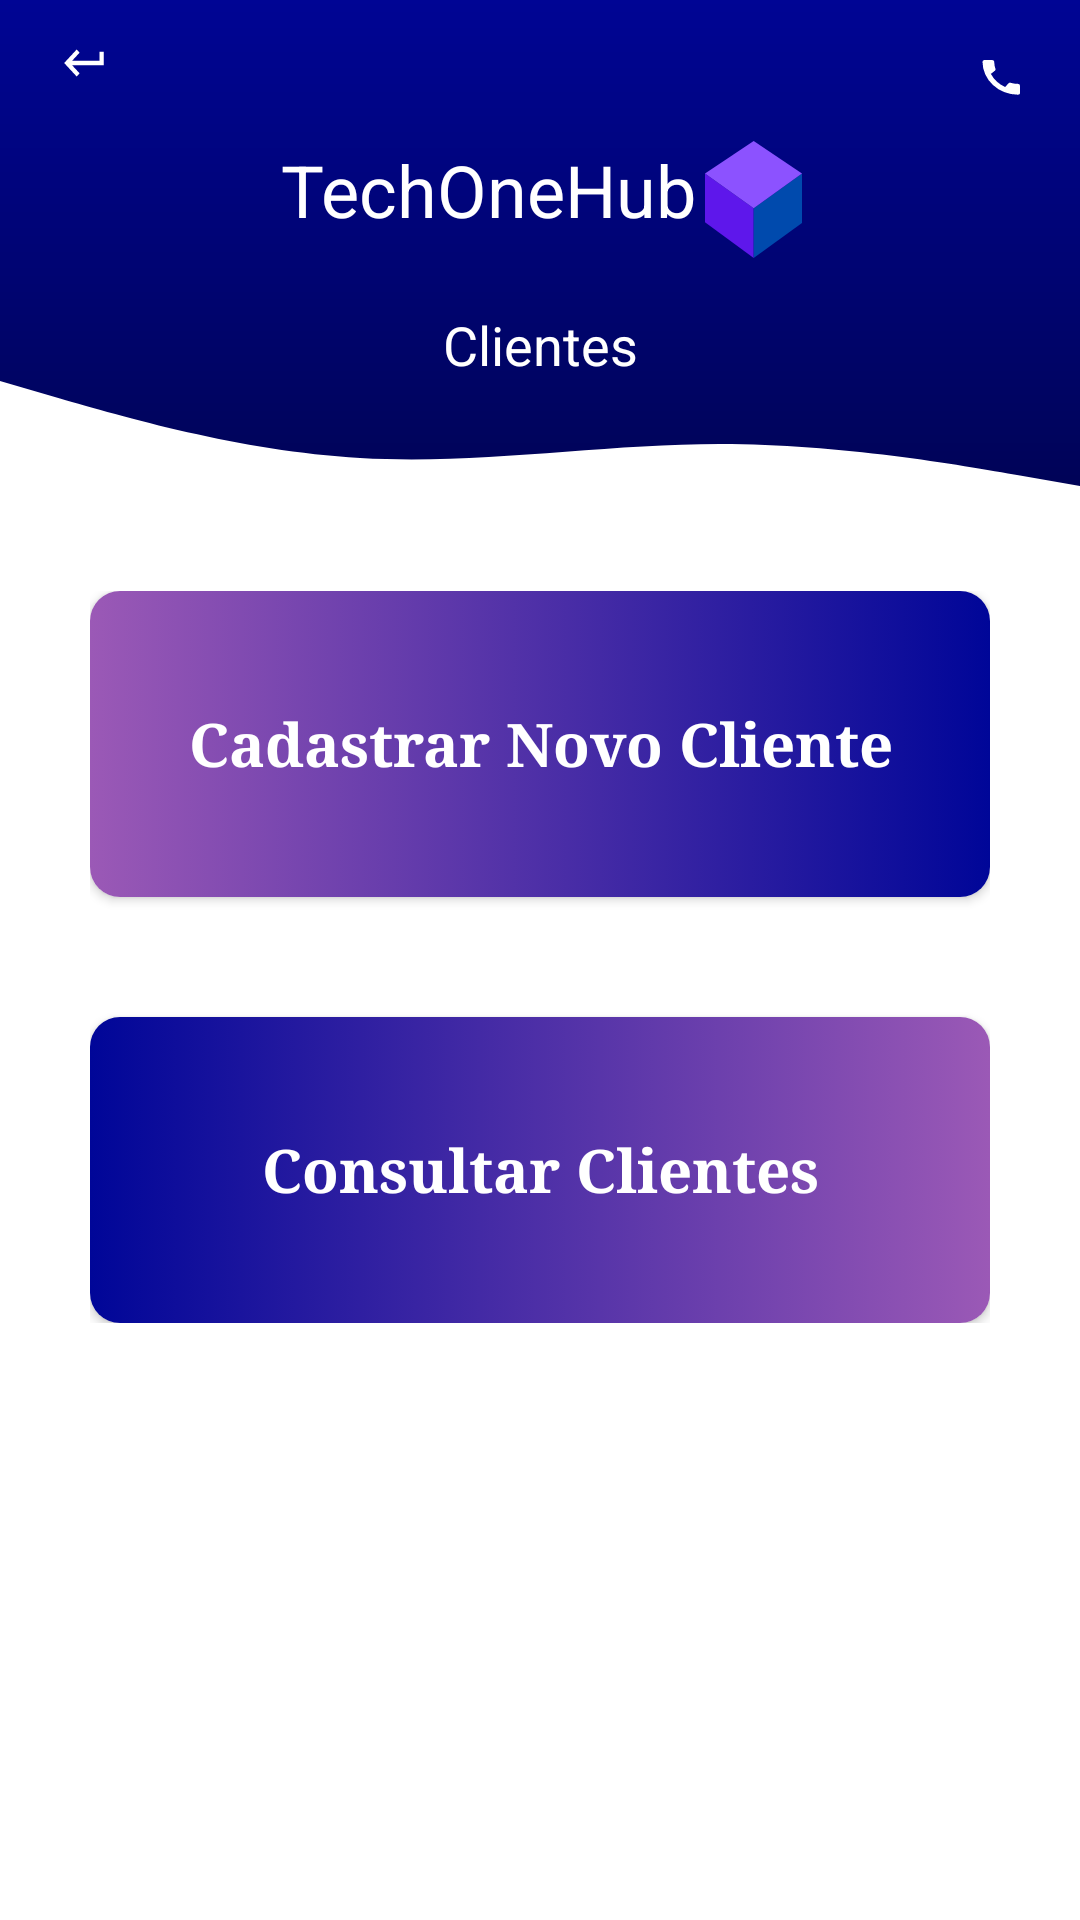

Icons on this 1080w x 1920h Android screen, each with the point to tap as [x,y]:
back: [84,63]
call: [1001,77]
cuboo: [753,199]
